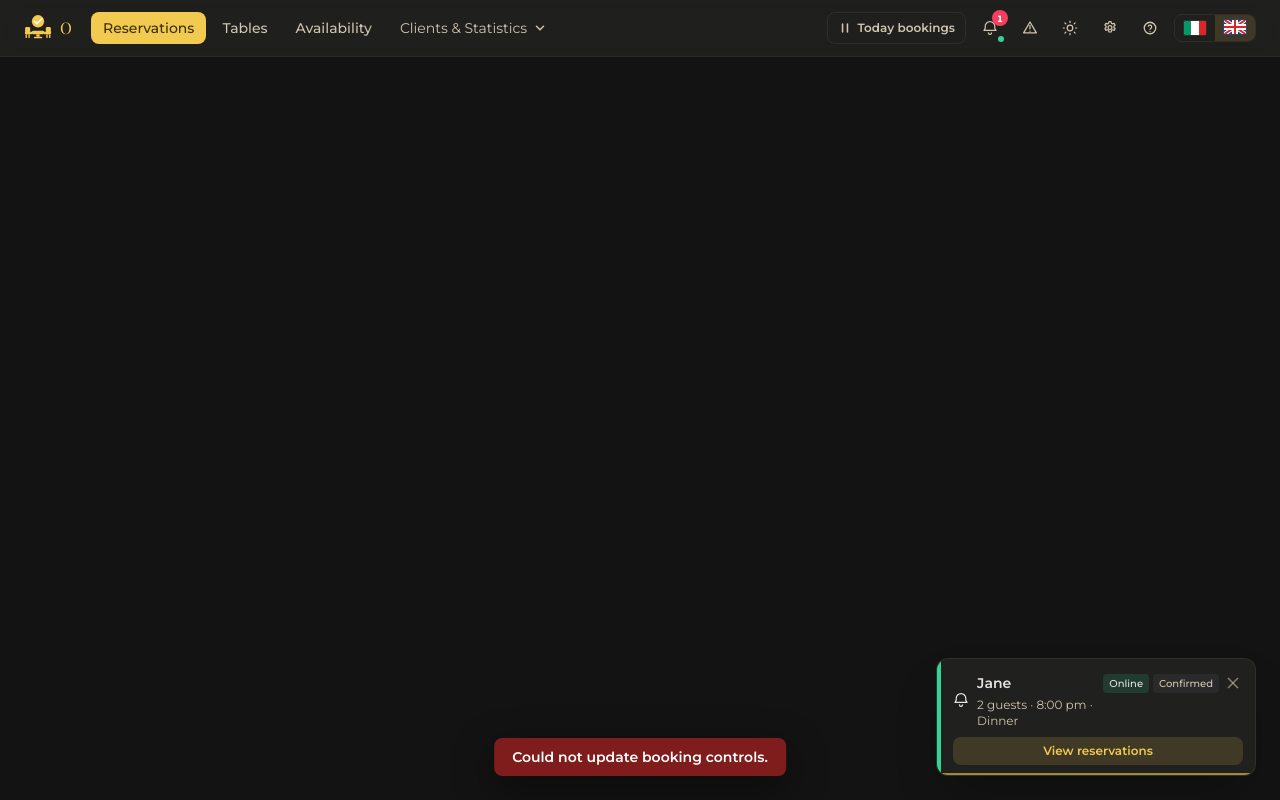
Test: AdminShell › clears visible reservation toasts when marking all notifications read
expect the button named "Dismiss" is shown: met, box x1=1223 y1=673 x2=1243 y2=693
Click the button named "notifications" at (990, 28), box x1=974 y1=12 x2=1006 y2=44
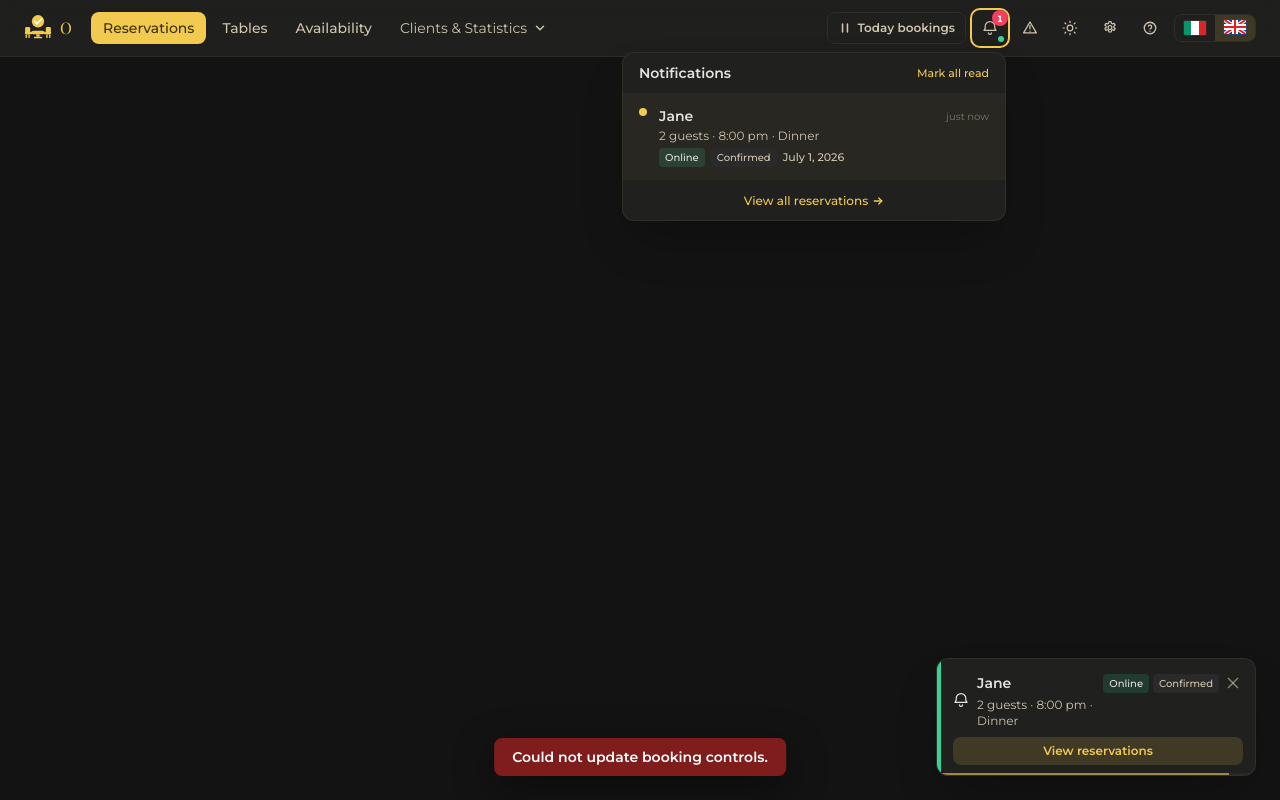
Click the button "Mark all read" at (953, 73), box x1=917 y1=65 x2=989 y2=81
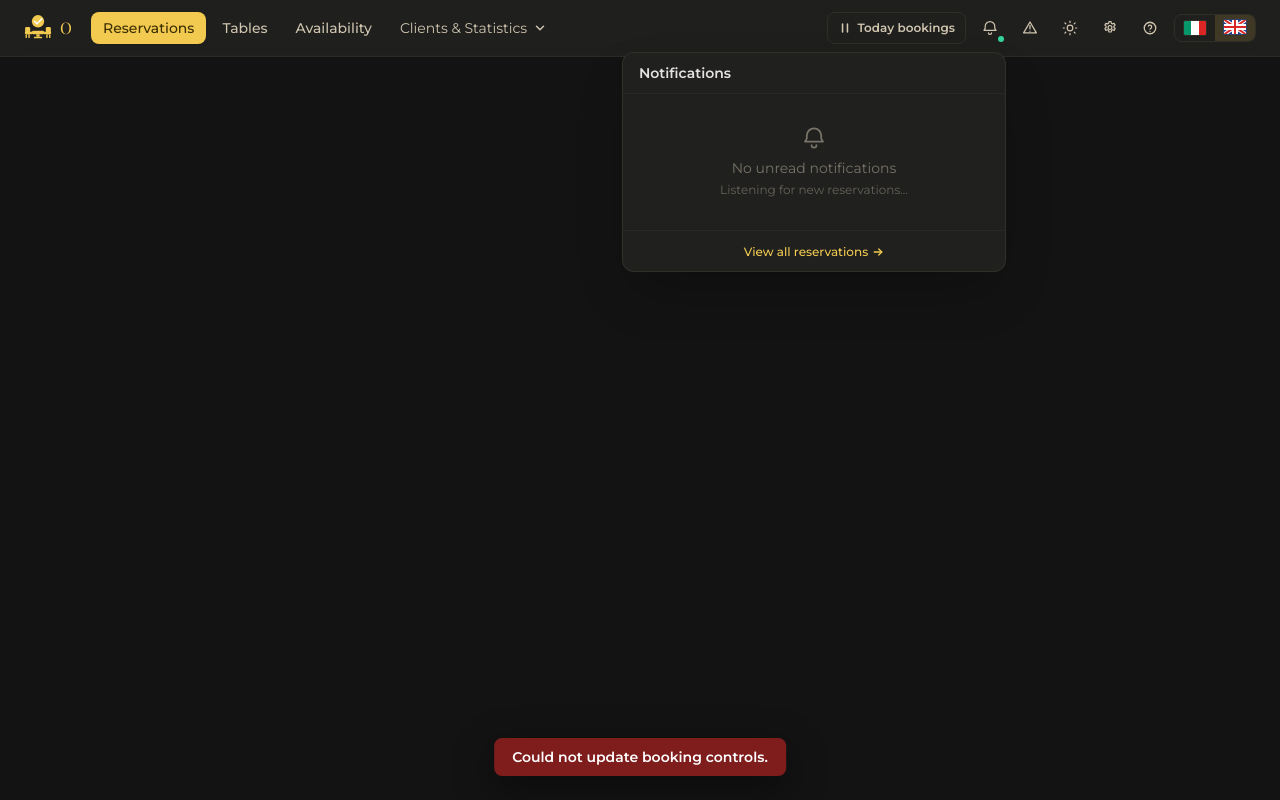
expect the button "Jane" is gone: met
expect the text "No unread notifications" is shown: met, box x1=732 y1=159 x2=896 y2=177
expect the button "Dismiss" is gone: met
